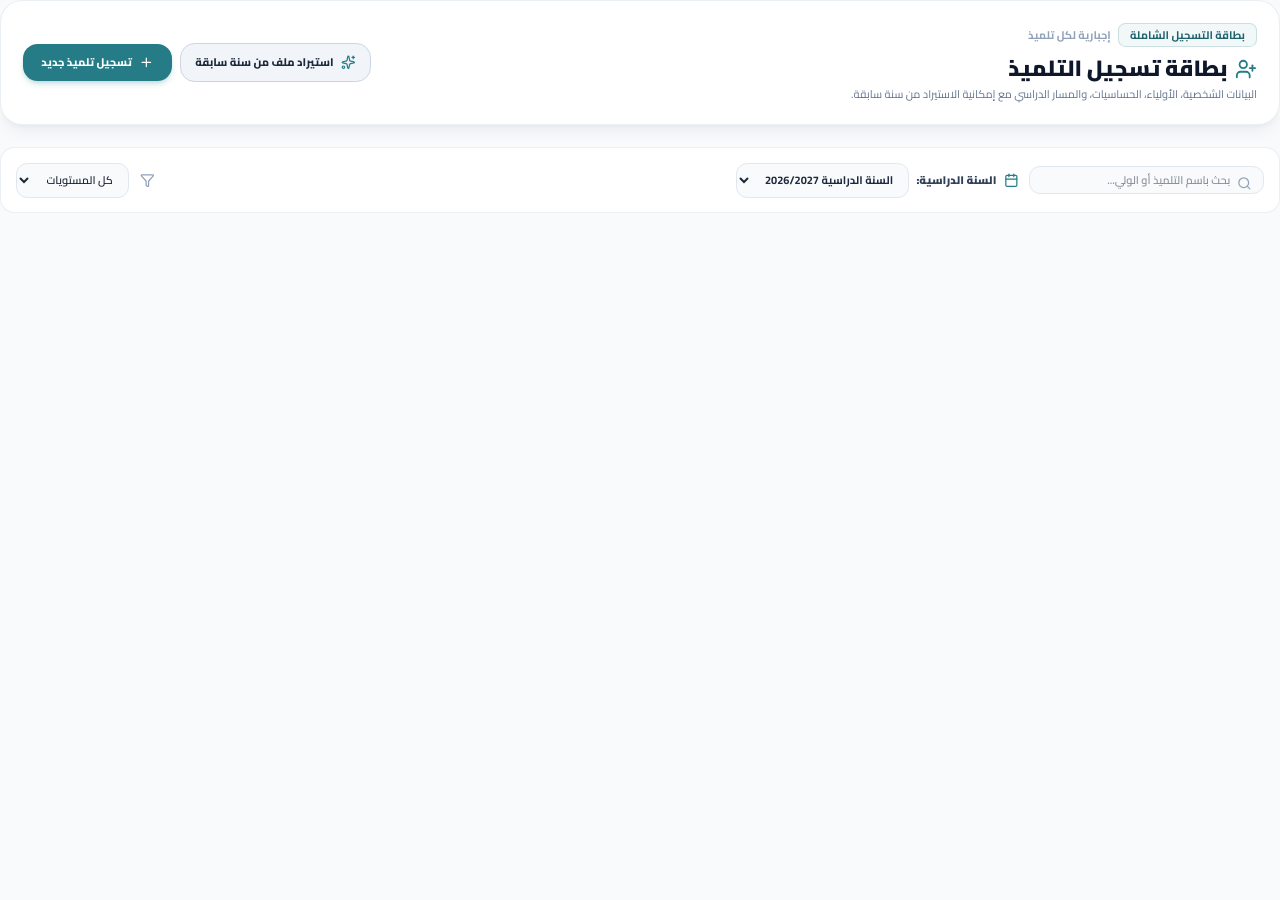
StudentRegistrationModule type-aware fields › shows school fields for a formation center with grade required
What coordinates should you click on to do the following:
click the button "تسجيل تلميذ جديد"
I would click on:
 (98, 63)
Its box is left=23, top=44, right=172, bottom=81.
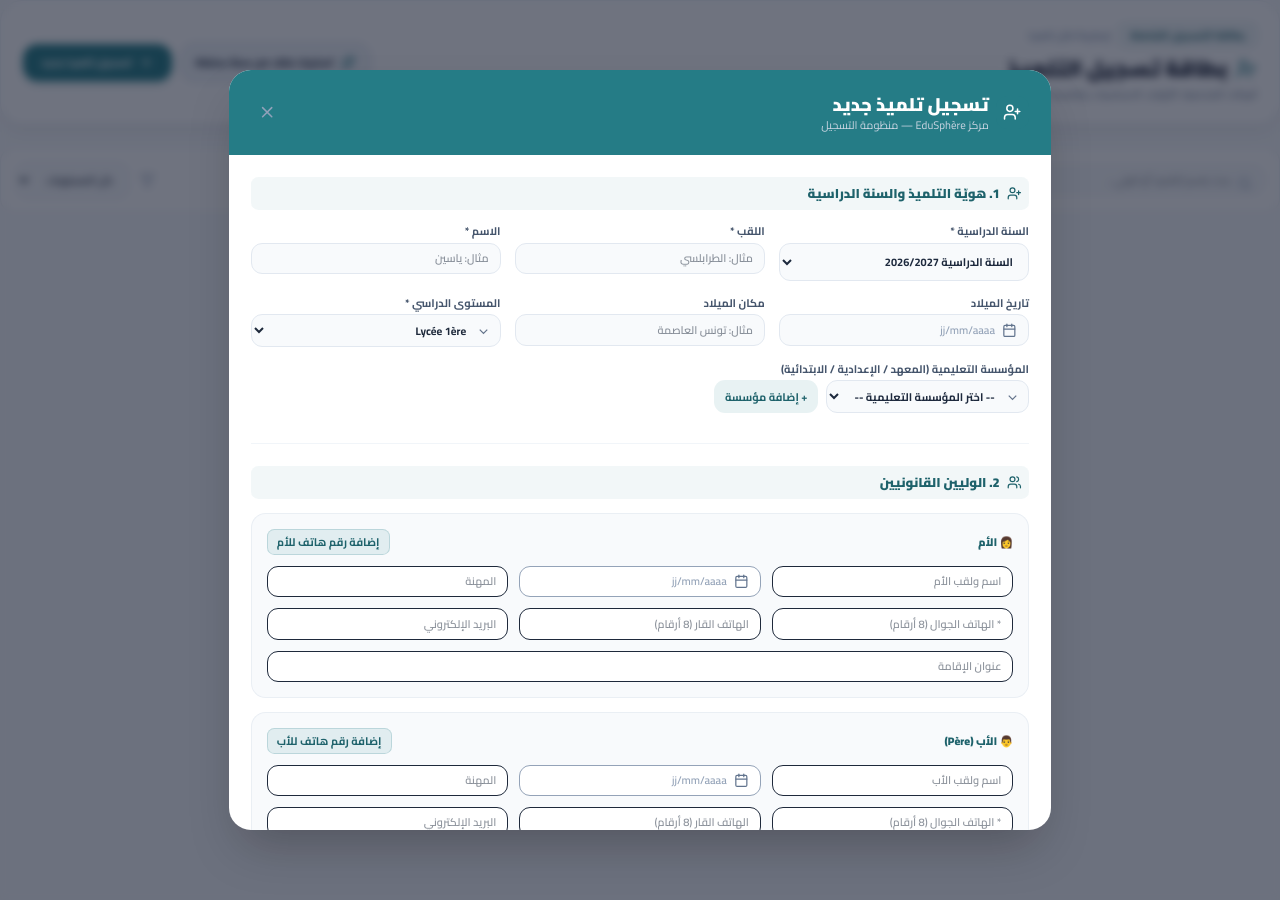
Result: the heading "1. هويّة التلميذ والسنة الدراسية" is shown at left=251, top=177, right=1029, bottom=210
Result: the text "المستوى الدراسي *" is shown at left=405, top=293, right=500, bottom=313
Result: the text "المؤسسة التعليمية (المعهد / الإعدادية / الابتدائية)" is shown at left=780, top=362, right=1029, bottom=377
